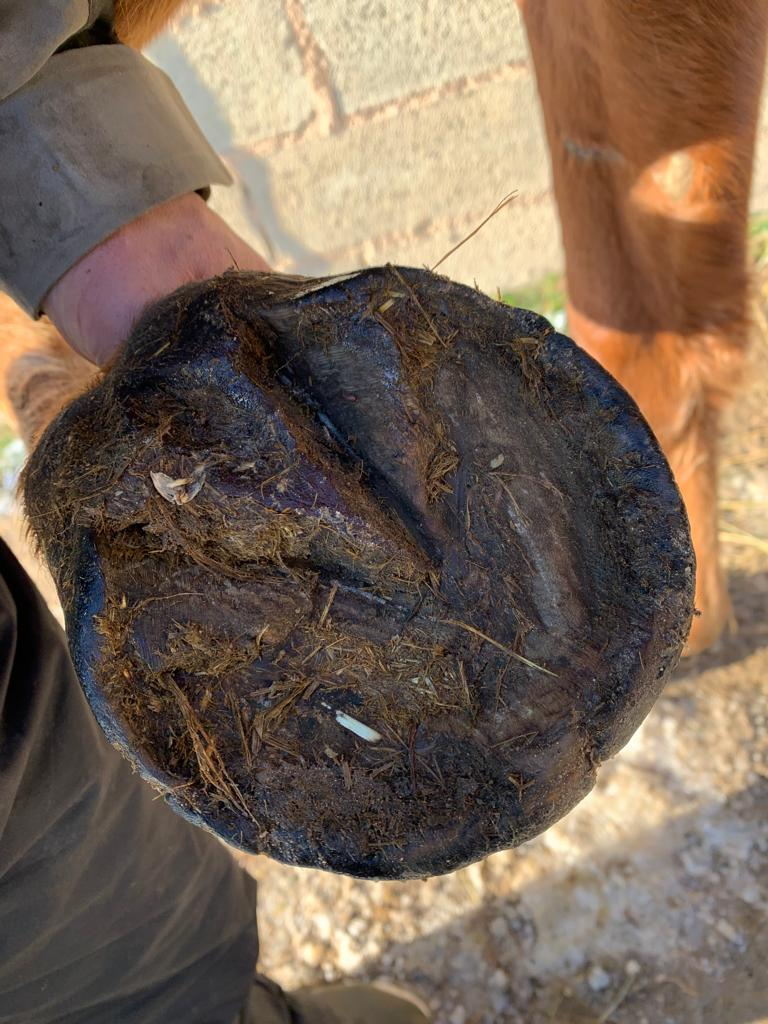horsesole: (71, 264, 698, 882)
